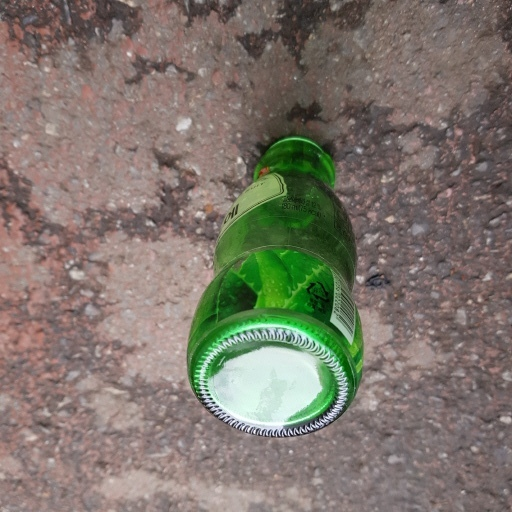Glass_4: (187, 134, 374, 441)
